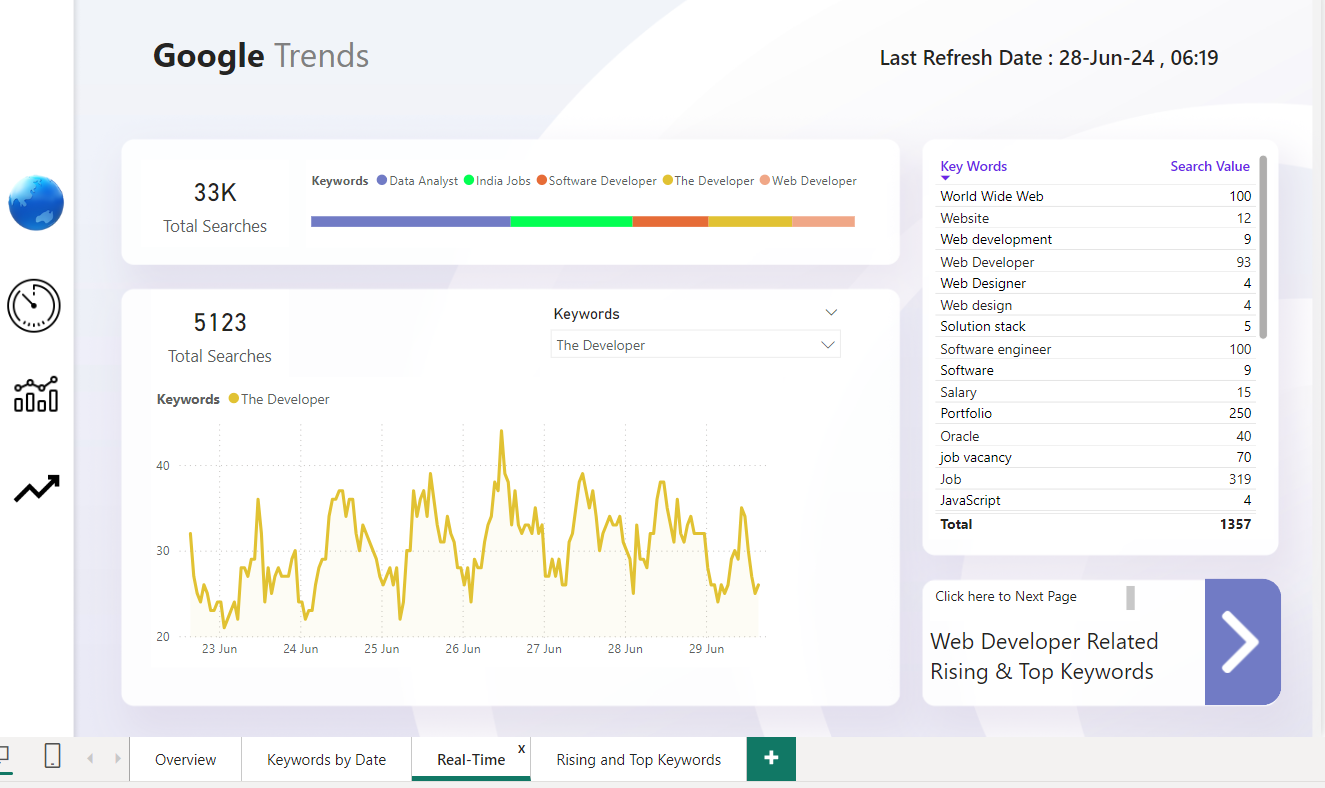

The page's visual inventory and layout, read from the dashboard file:
{"tool":"powerbi","page":{"name":"Real-Time","canvas":[1280,720],"ordinal":2},"visuals":[{"type":"areaChart","fields":{"Y":["Past_7_Days_Searches.Last_7_Days_Value"],"Category":["Past_7_Days_Searches.Date"],"Series":["Past_7_Days_Searches.Keywords"]},"box":[150.8,372.8,609.3,279.9],"z":0},{"type":"slicer","fields":{"Values":["Past_7_Days_Searches.Keywords"]},"box":[526,298,300.4,74.8],"z":1000},{"type":"card","fields":{"Values":["Past_7_Days_Searches.Last_7_Days_Value"]},"box":[151.2,288.8,132.5,83.8],"z":2000},{"type":"card","fields":{"Values":["Past_7_Days_Searches.Last_7_Days_Value"]},"box":[141.2,162.5,142.5,83.8],"z":3000},{"type":"barChart","fields":{"Y":["Past_7_Days_Searches.Last_7_Days_Value"],"Series":["Past_7_Days_Searches.Keywords"]},"box":[300.4,162.9,561,84.5],"z":4000},{"type":"textbox","box":[902.5,570,202.5,38.8],"z":5000},{"type":"shape","box":[902.5,598.8,231.2,85],"z":6000},{"type":"tableEx","title":"Top & Rising","fields":{"Values":["Rising_Top.Title","Sum(Rising_Top.Value)"]},"box":[901.2,153.8,332.5,376.2],"z":7000},{"type":"textbox","box":[146.8,34.3,230.5,53.5],"z":8000},{"type":"card","fields":{"Values":["Min(Refresh_Date.Refresh_Date)"]},"box":[819.2,34.3,396.6,64.5],"z":9000},{"type":"image","box":[0,167.5,78.8,73.8],"z":10000},{"type":"image","box":[13.8,453.8,53.8,53.8],"z":11000},{"type":"image","box":[3.8,271,70,66.2],"z":12000},{"type":"image","box":[11.2,360,58.8,58.8],"z":13000},{"type":"actionButton","box":[1167.5,567.5,73.8,122.5],"z":14000}]}

Visuals, with their boxes on the page's 1280x720 design canvas (x1, y1, x2, y2). These are canvas units, not pixel positions in the 1325x788 screenshot, which may show the page scaled, cropped or inside an application window:
areaChart - Past_7_Days_Searches.Last_7_Days_Value x Past_7_Days_Searches.Date: (151,373,760,653)
slicer - Past_7_Days_Searches.Keywords: (526,298,826,373)
card - Past_7_Days_Searches.Last_7_Days_Value: (151,289,284,373)
card - Past_7_Days_Searches.Last_7_Days_Value: (141,162,284,246)
barChart - Past_7_Days_Searches.Last_7_Days_Value x Past_7_Days_Searches.Keywords: (300,163,861,247)
textbox: (902,570,1105,609)
shape: (902,599,1134,684)
"Top & Rising" tableEx: (901,154,1234,530)
textbox: (147,34,377,88)
card - Min(Refresh_Date.Refresh_Date): (819,34,1216,99)
image: (0,168,79,241)
image: (14,454,68,508)
image: (4,271,74,337)
image: (11,360,70,419)
actionButton: (1168,568,1241,690)
